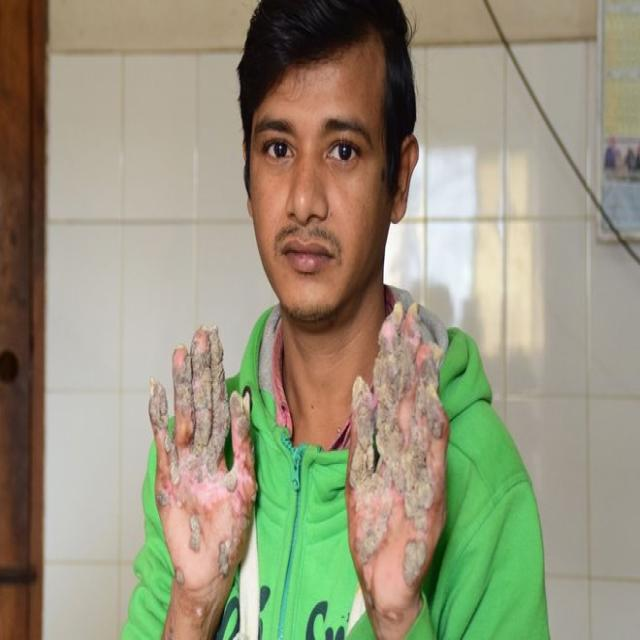human: (122, 1, 561, 640)
